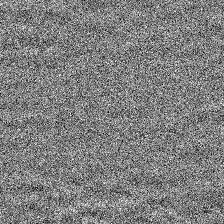cavities: (28, 89, 191, 158)
